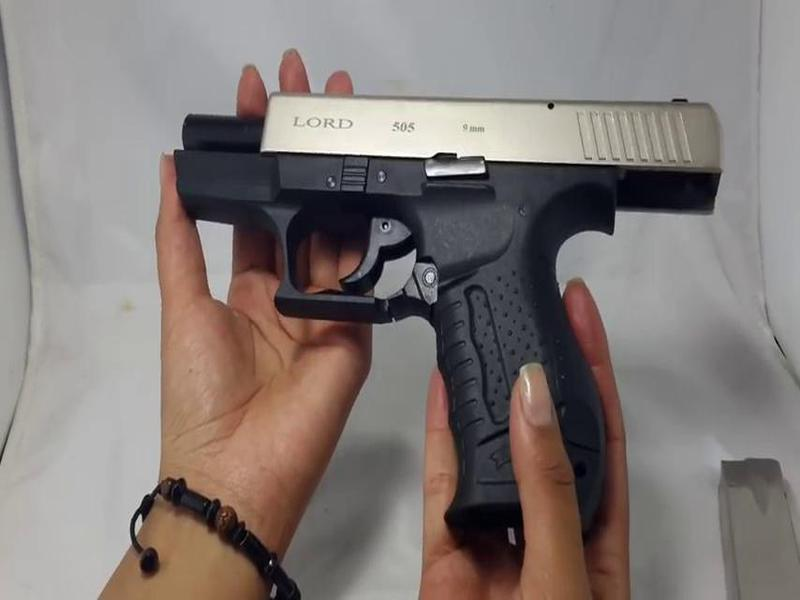Pistola: (170, 32, 705, 544)
